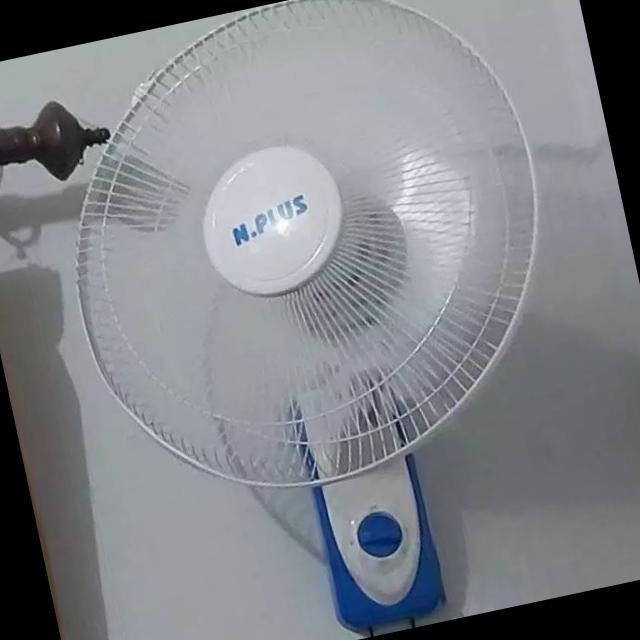fan: (21, 0, 631, 640)
